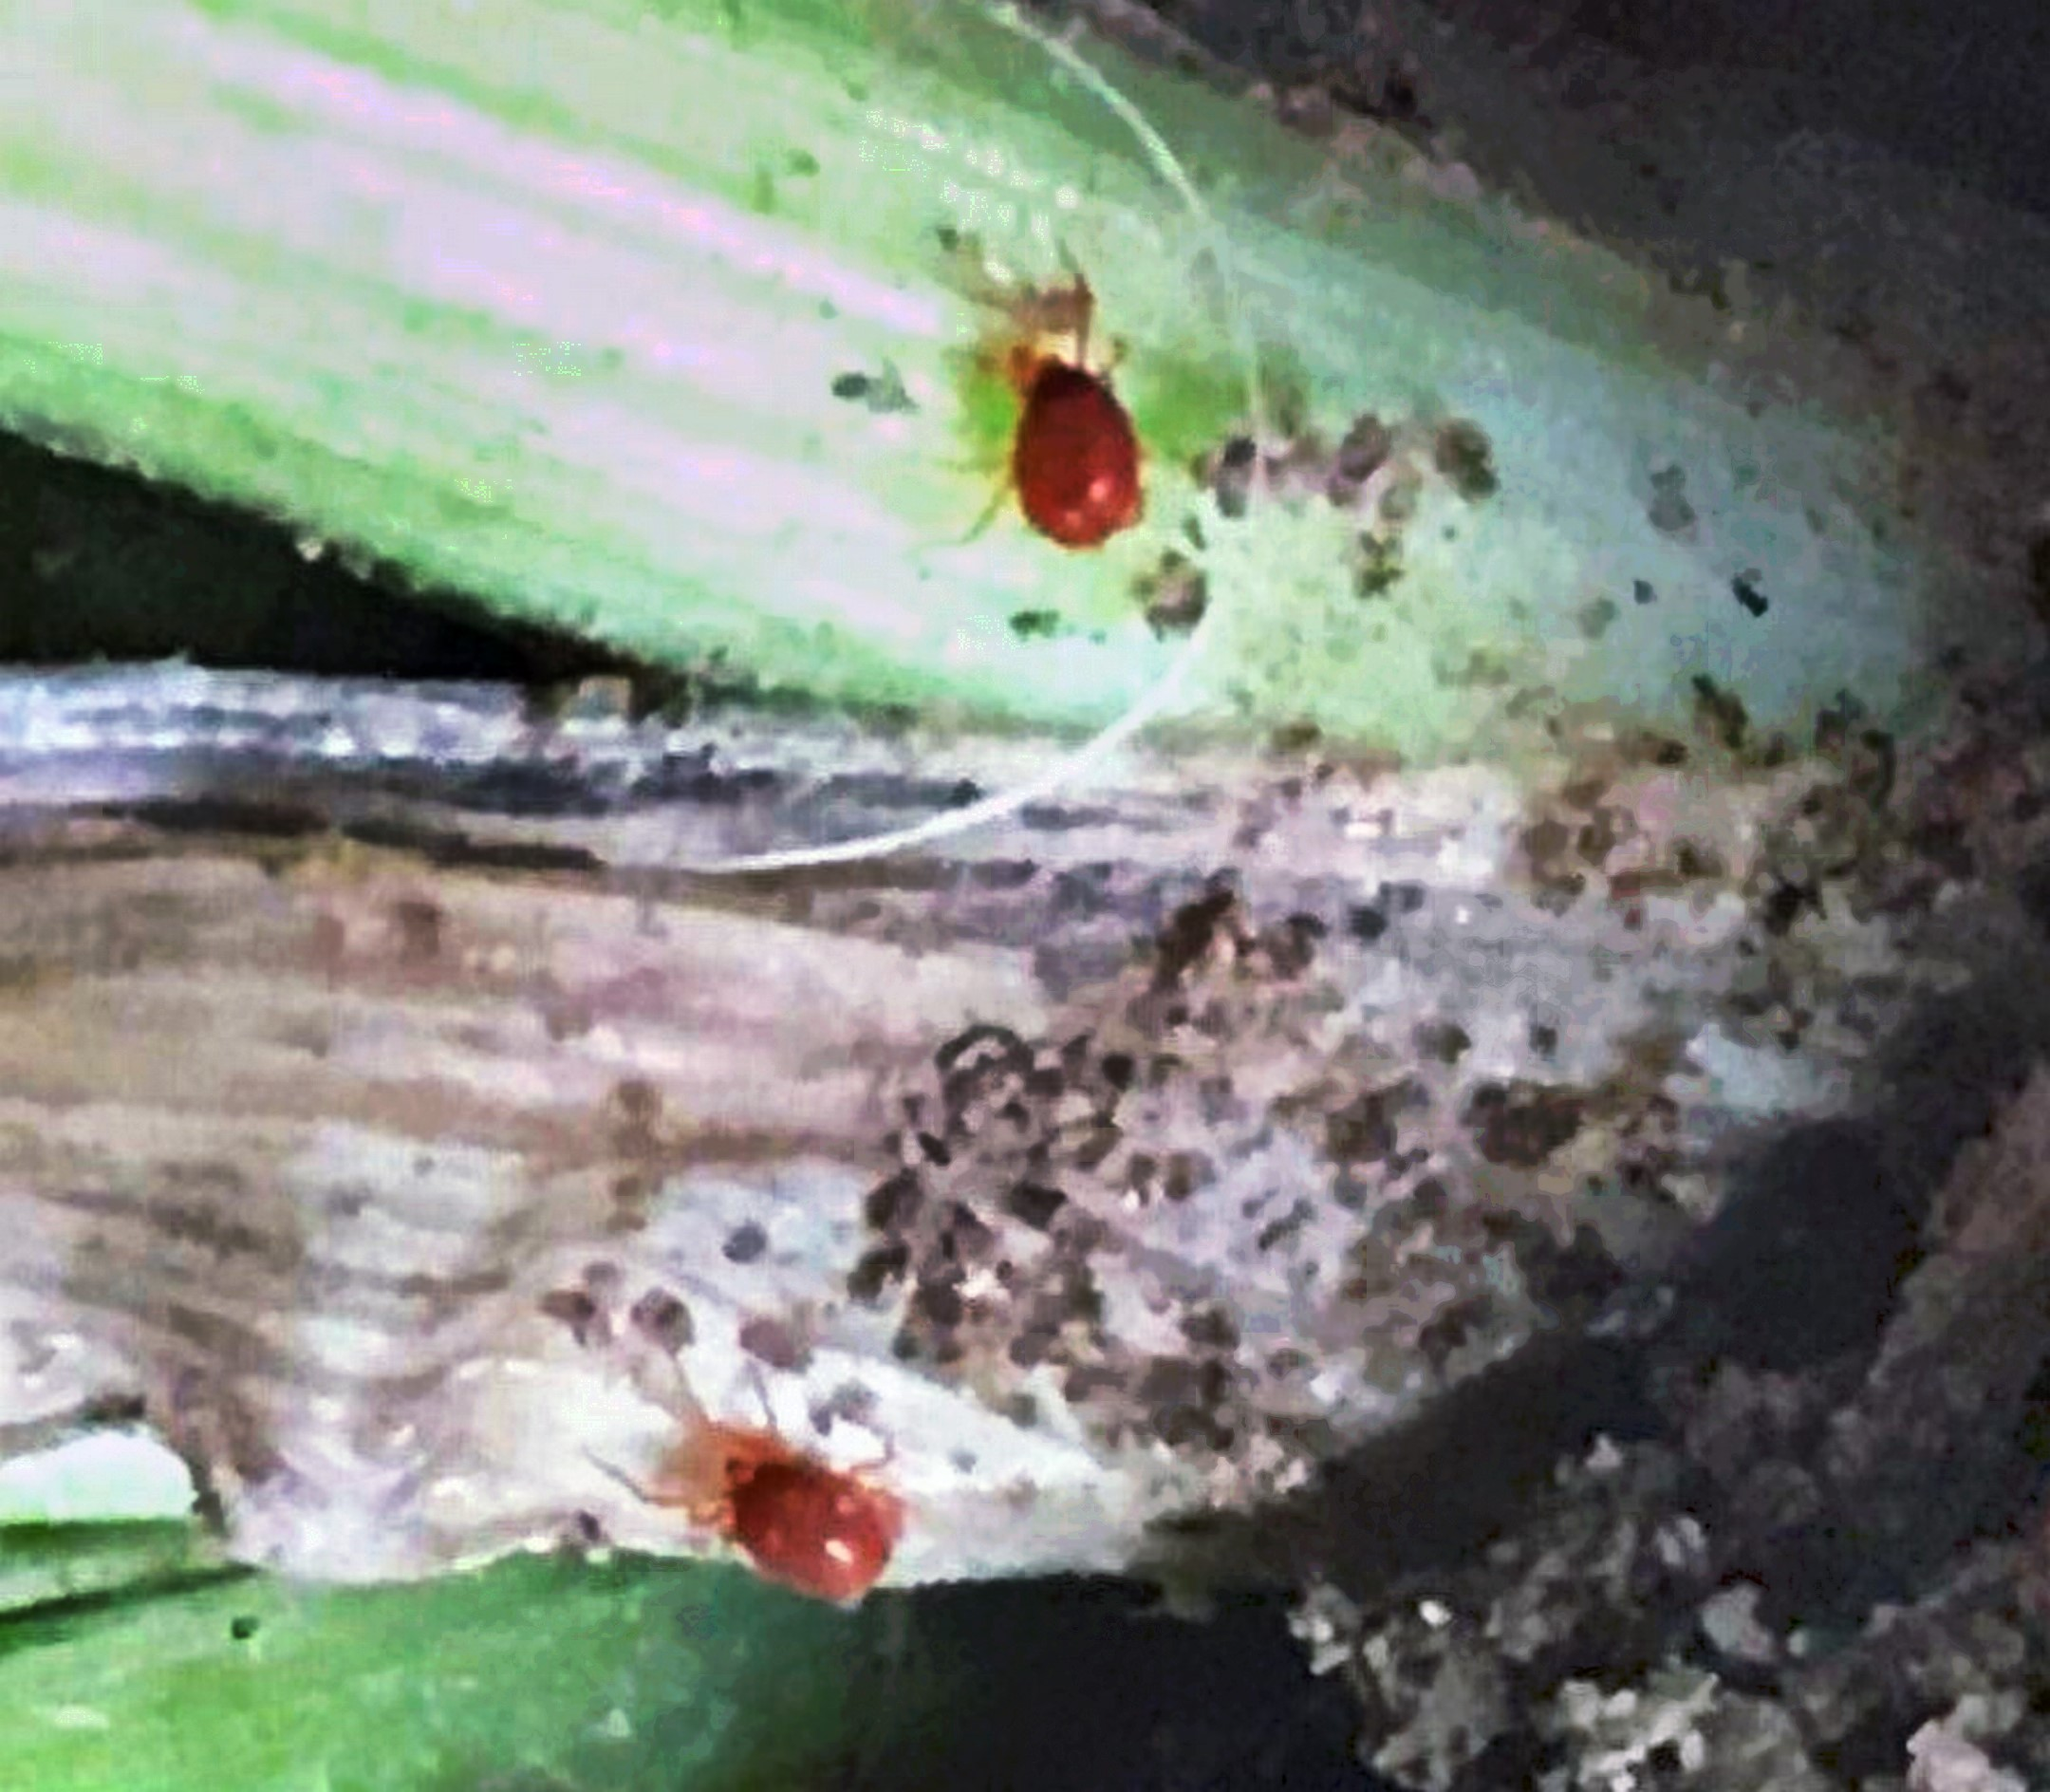Wheat Red Spider: (554, 1346, 929, 1640)
